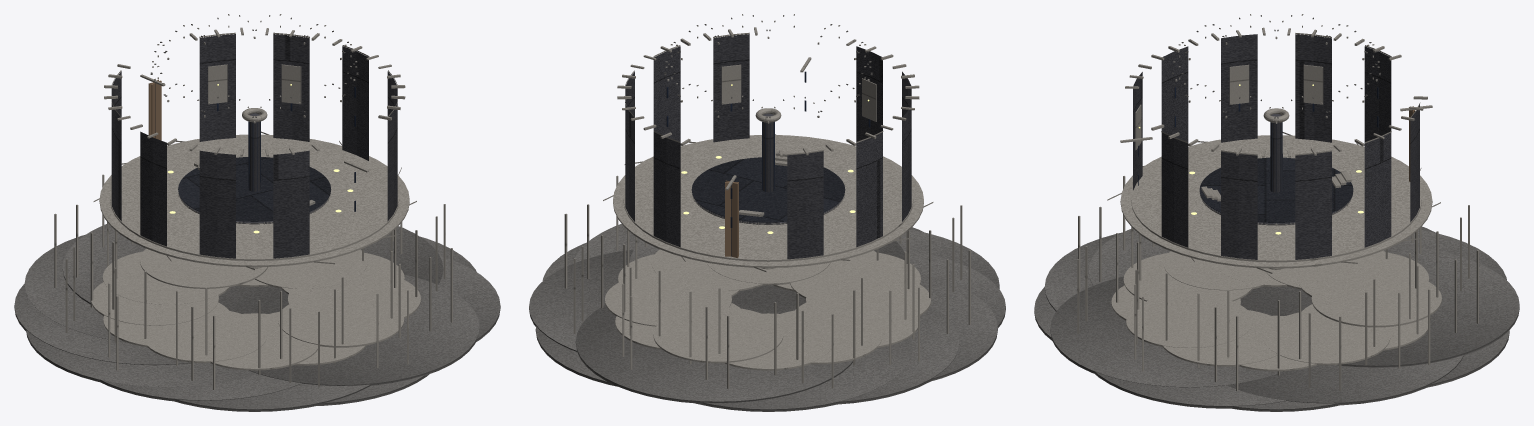
File: test-iso-polished-v2_v1.glb
3 views of the same model, side by side, from view 1: azimuth 30°, elevation 25°; view 2: azimuth 150°, elevation 25°; view 3: azimuth 270°, elevation 25° (orthographic).
Visible parts, largest first — view 1: test-iso-polished-v2; view 2: test-iso-polished-v2; view 3: test-iso-polished-v2.
Part boxes in pixels (<box>): test-iso-polished-v2: <box>14,14,500,411</box>; test-iso-polished-v2: <box>529,14,1005,411</box>; test-iso-polished-v2: <box>1034,14,1519,411</box>.
Bounding box in the file's own units: 86.85 × 56.44 × 87.14.
10 materials, 6 textured.
